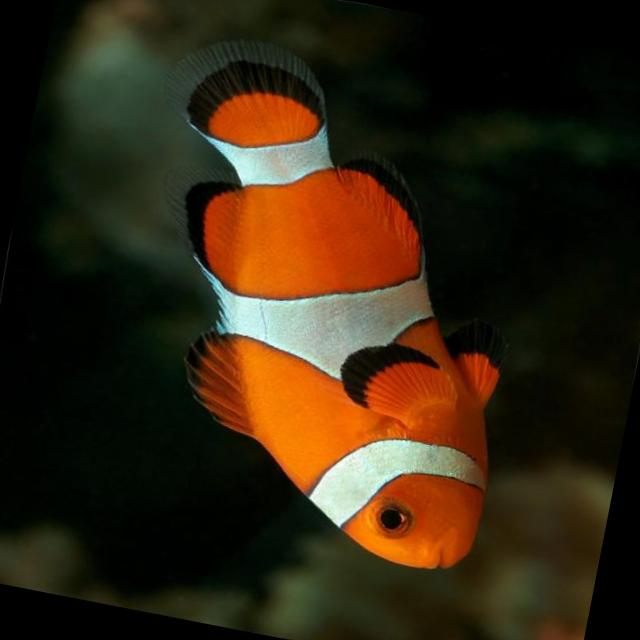ClownFish: (105, 39, 564, 581)
